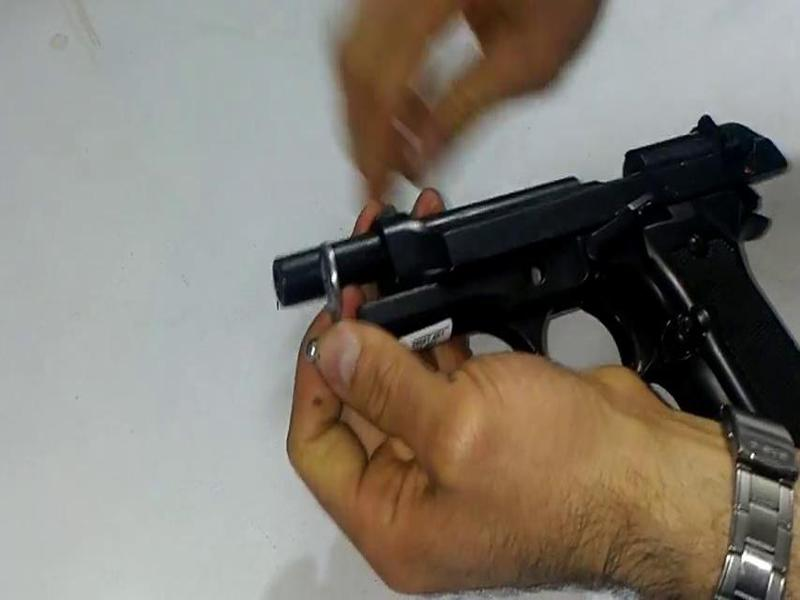Pistola: (267, 95, 800, 480)
